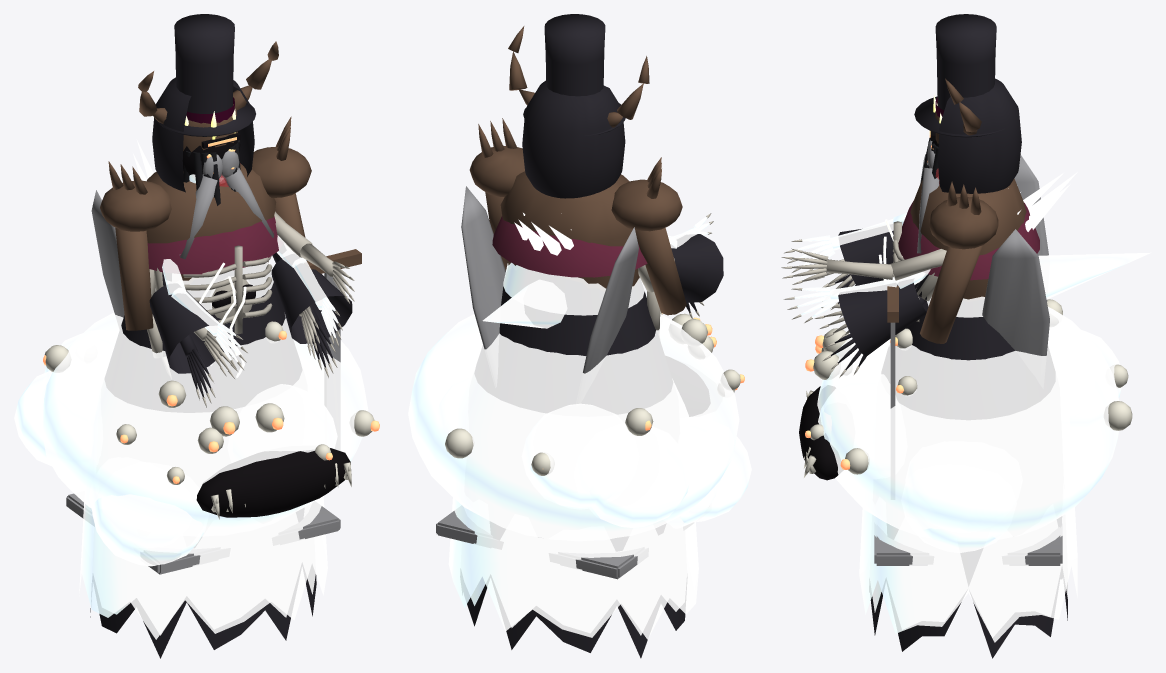
The model's file is enemies.glb.
3 views of the same model, side by side, from view 1: azimuth 30°, elevation 25°; view 2: azimuth 150°, elevation 25°; view 3: azimuth 270°, elevation 25° (orthographic).
Visible parts, largest first — view 1: Sway_body.005_TintBody, Sway_body_TintBody, Still_body.001_RustIron, Sway_body.002_BlackCloth, Mouth, Sway_head.001_BlackCloth, Still_body_Stone, Mantle, Sway_body.005_EyeWhite, Hood, Sway_body.004_Bone, Reach_Arm-1_TintBody (+11 smaller); view 2: Sway_body.005_TintBody, Sway_body_TintBody, Still_body.001_RustIron, Sway_body.002_BlackCloth, Hood, Still_body_Stone, Sway_head.001_BlackCloth, Mantle, Robe, Sway_body.005_EyeWhite, Tail, Sway_body.003_TintGlow (+1 smaller); view 3: Sway_body.005_TintBody, Sway_body_TintBody, Sway_body.002_BlackCloth, Still_body.001_RustIron, Still_body_Stone, Hood, Sway_head.001_BlackCloth, Sway_body.005_EyeWhite, Reach_ArmR_Bone, Tail, Mantle, Mouth (+6 smaller).
Part boxes in pixels (x1=…): Sway_body.005_TintBody: x1=14, y1=312, x2=368, y2=566; Sway_body_TintBody: x1=79, y1=496, x2=327, y2=639; Still_body.001_RustIron: x1=100, y1=41, x2=361, y2=330; Sway_body.002_BlackCloth: x1=90, y1=257, x2=352, y2=658; Mouth: x1=196, y1=448, x2=350, y2=517; Sway_head.001_BlackCloth: x1=154, y1=14, x2=255, y2=136; Still_body_Stone: x1=66, y1=150, x2=340, y2=574; Mantle: x1=147, y1=216, x2=280, y2=274; Sway_body.005_EyeWhite: x1=44, y1=321, x2=374, y2=484; Hood: x1=152, y1=77, x2=254, y2=192; Sway_body.004_Bone: x1=183, y1=245, x2=272, y2=334; Reach_Arm-1_TintBody: x1=162, y1=259, x2=241, y2=361; Sway_body.005_TintBody: x1=408, y1=314, x2=751, y2=538; Sway_body_TintBody: x1=448, y1=497, x2=698, y2=639; Still_body.001_RustIron: x1=469, y1=26, x2=686, y2=315; Sway_body.002_BlackCloth: x1=461, y1=234, x2=723, y2=658; Hood: x1=522, y1=80, x2=625, y2=198; Still_body_Stone: x1=436, y1=186, x2=692, y2=579; Sway_head.001_BlackCloth: x1=523, y1=14, x2=625, y2=135; Mantle: x1=492, y1=216, x2=647, y2=277; Robe: x1=470, y1=262, x2=679, y2=635; Sway_body.005_EyeWhite: x1=445, y1=311, x2=740, y2=475; Tail: x1=482, y1=280, x2=566, y2=328; Sway_body.003_TintGlow: x1=514, y1=213, x2=573, y2=255; Sway_body.005_TintBody: x1=817, y1=307, x2=1121, y2=551; Sway_body_TintBody: x1=859, y1=507, x2=1077, y2=642; Sway_body.002_BlackCloth: x1=838, y1=226, x2=1067, y2=658; Still_body.001_RustIron: x1=887, y1=78, x2=1026, y2=343; Still_body_Stone: x1=874, y1=140, x2=1062, y2=565; Hood: x1=938, y1=78, x2=1021, y2=193; Sway_head.001_BlackCloth: x1=914, y1=14, x2=1004, y2=137; Sway_body.005_EyeWhite: x1=810, y1=299, x2=1132, y2=474; Reach_ArmR_Bone: x1=781, y1=248, x2=946, y2=284; Tail: x1=1038, y1=252, x2=1151, y2=299; Mantle: x1=898, y1=201, x2=1039, y2=280; Mouth: x1=799, y1=385, x2=842, y2=480.
Bounding box in the file's own units: 1.44 × 2.78 × 1.58.
